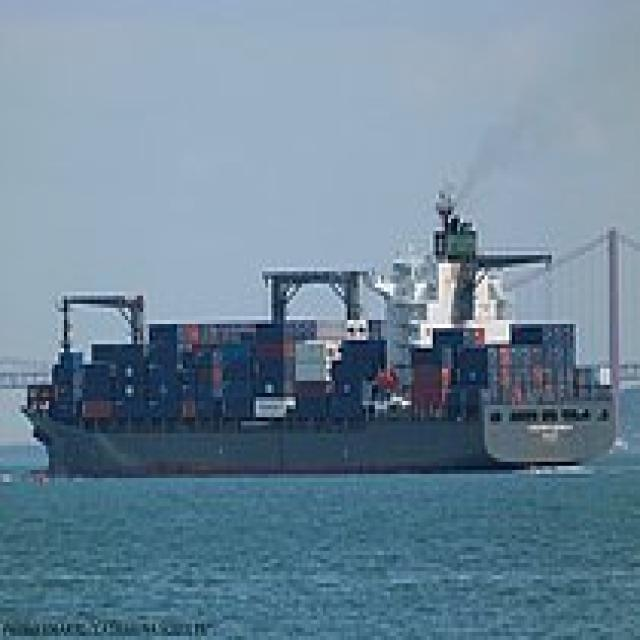Cargo: (12, 182, 616, 474)
